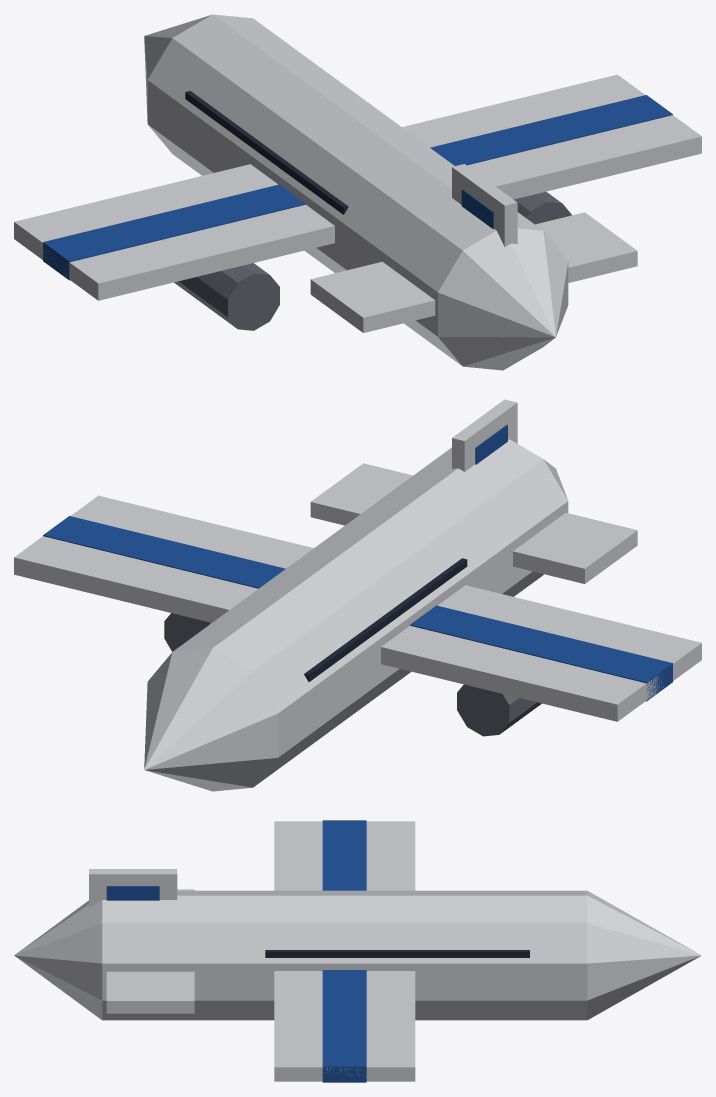
3 views of the same model, one above another, from view 1: azimuth 30°, elevation 25°; view 2: azimuth 150°, elevation 25°; view 3: azimuth 270°, elevation 25° (orthographic). The views are drawn at different scales.
Parts seen in each view (by area): view 1: plane; view 2: plane; view 3: plane.
Part boxes in pixels (x1=…): plane: x1=14, y1=14, x2=701, y2=370; plane: x1=14, y1=399, x2=701, y2=791; plane: x1=14, y1=820, x2=701, y2=1082.
Size of the model in its own units: 0.66 by 0.18 by 0.78.
